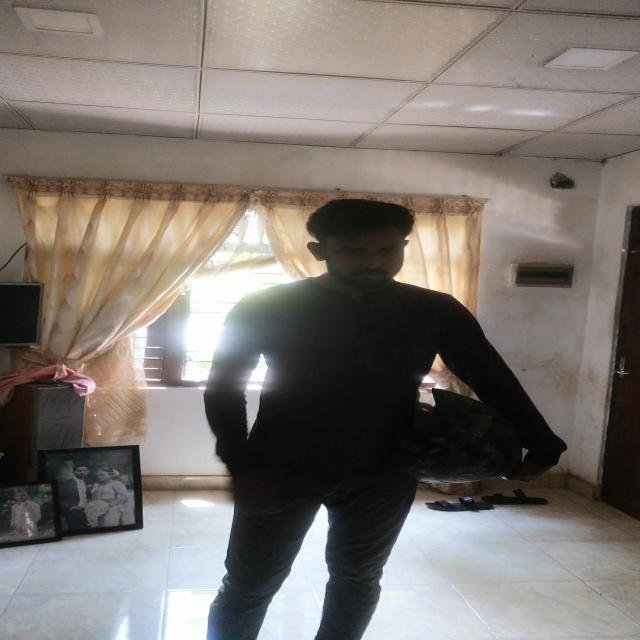Person: (188, 201, 495, 640)
